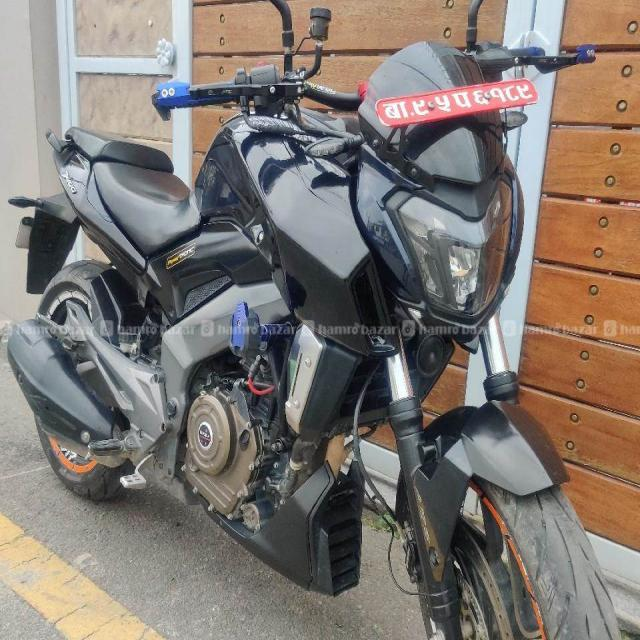License-plate: (375, 74, 540, 138)
